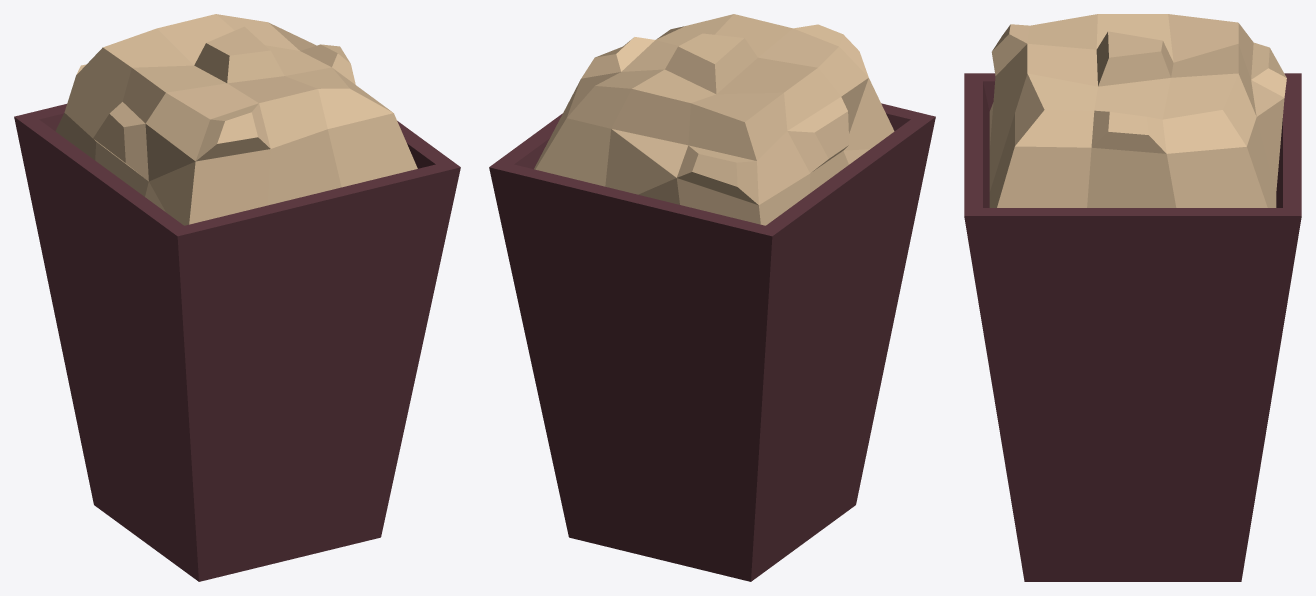
The model's file is popcorn.fbx.
3 renders of one model, left to right at view 1: azimuth 30°, elevation 25°; view 2: azimuth 150°, elevation 25°; view 3: azimuth 270°, elevation 25°, orthographic. The views are drawn at different scales.
Visible parts, largest first — view 1: popcorn; view 2: popcorn; view 3: popcorn.
Part boxes in pixels (box(x1,y1,x2,y2)): popcorn: box(14, 14, 460, 581); popcorn: box(489, 14, 935, 581); popcorn: box(964, 14, 1301, 581).
Bounding box in the file's own units: 0.2163 × 0.35 × 0.2163.
